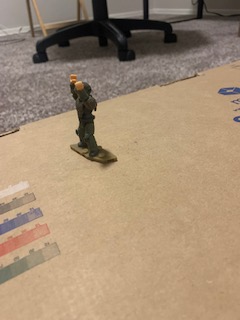soldier: (64, 71, 110, 163)
